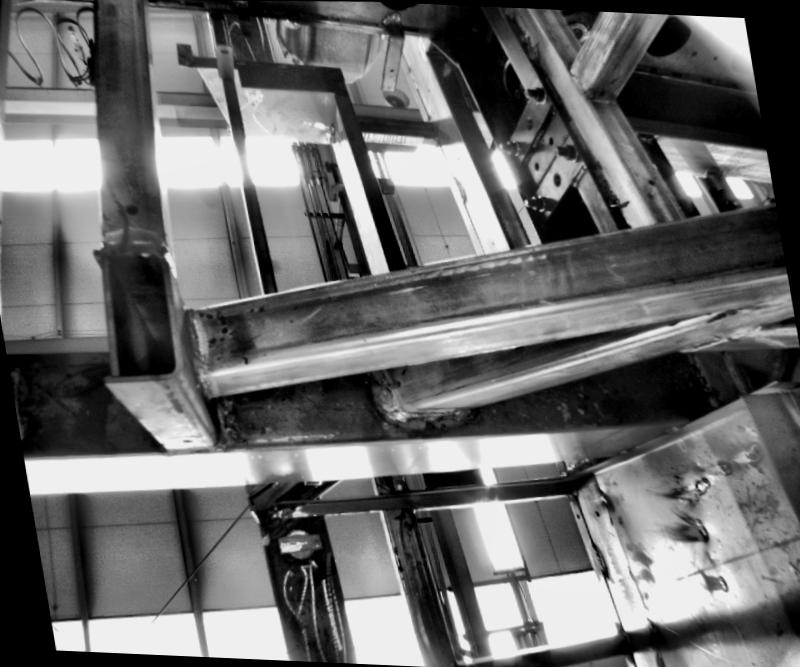bolt: (519, 77, 548, 100), (552, 141, 584, 160), (518, 190, 546, 209), (496, 136, 519, 152)
bracket: (488, 70, 601, 224), (370, 4, 412, 91), (210, 27, 233, 78)
hole: (120, 196, 140, 215), (388, 375, 404, 387), (523, 112, 536, 126), (550, 170, 561, 186), (531, 158, 539, 169), (547, 132, 555, 143), (181, 436, 192, 443), (648, 175, 656, 183), (488, 238, 496, 245), (384, 80, 391, 87), (218, 43, 226, 49), (387, 65, 394, 71), (594, 508, 600, 514), (574, 511, 578, 516), (426, 86, 429, 90)
welding: (378, 402, 472, 422), (372, 364, 401, 417), (183, 305, 206, 371), (590, 540, 604, 573), (404, 65, 418, 86), (379, 8, 401, 19)
